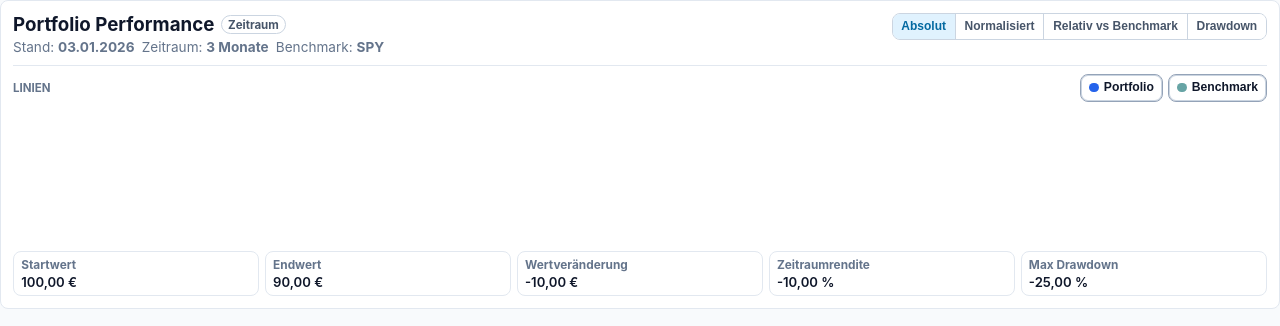
it: PortfolioPerformancePanel › calculates portfolio and benchmark drawdown curves from existing series
Click the button "Drawdown" at (1227, 26), box [1188, 14, 1266, 39]
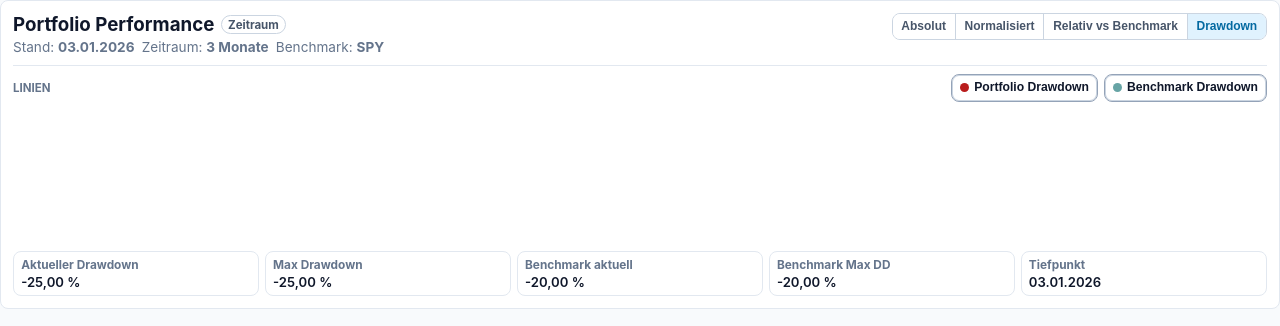
expect the text "Portfolio Drawdown" is shown: met, box [974, 81, 1089, 94]
expect the text "Benchmark Drawdown" is shown: met, box [1127, 81, 1258, 94]
expect the text "Aktueller Drawdown" is shown: met, box [21, 258, 139, 272]
